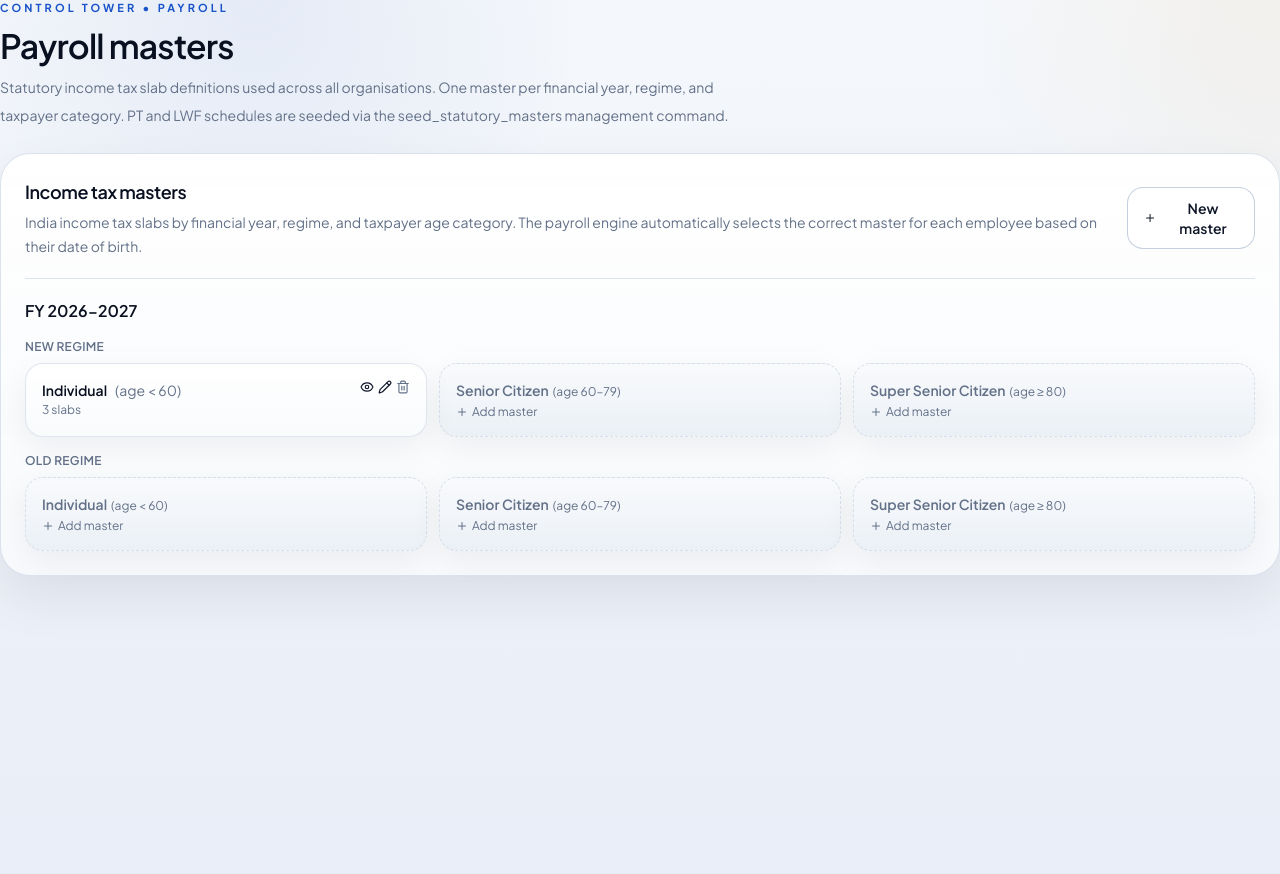
PayrollMastersPage › pre-fills the fiscal year and category when clicking an empty master slot
Click the 1st button "Senior Citizen(age 60–79) Add master" at [502, 390], box [439,363,841,437]
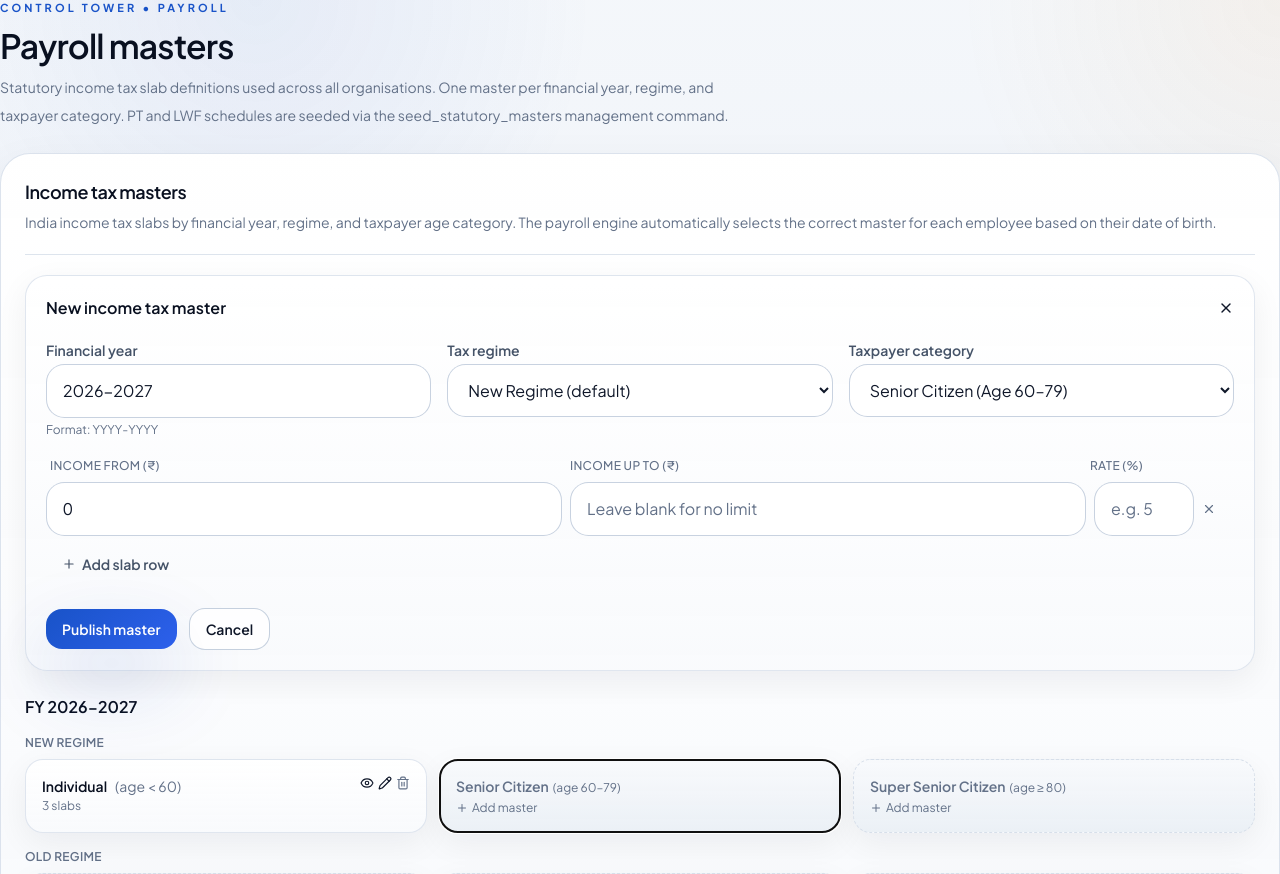
Expected: the text "New income tax master" is shown, [46,296,226,320]
